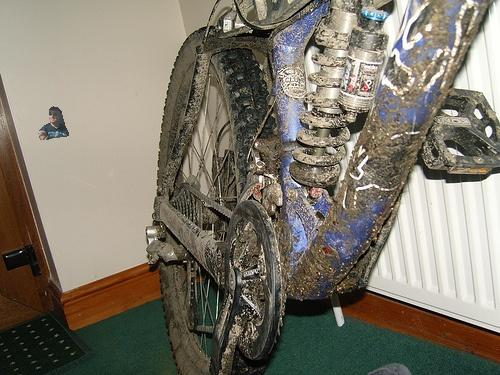tampered: (39, 107, 69, 140)
